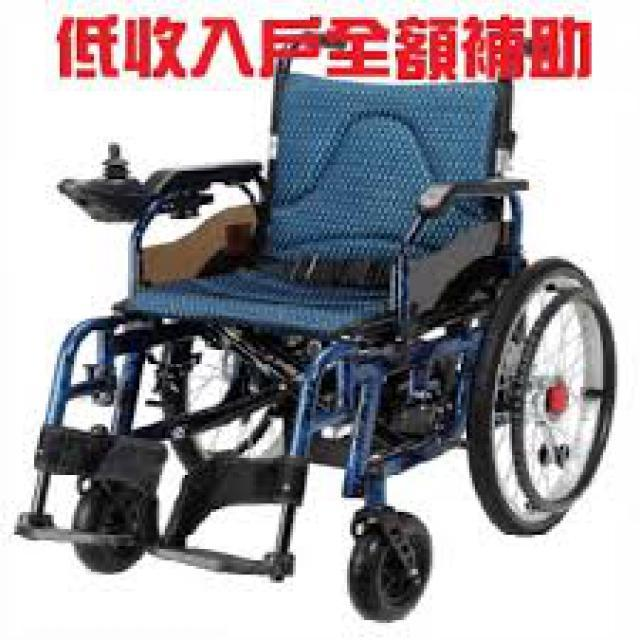wheelchair: (0, 36, 626, 614)
